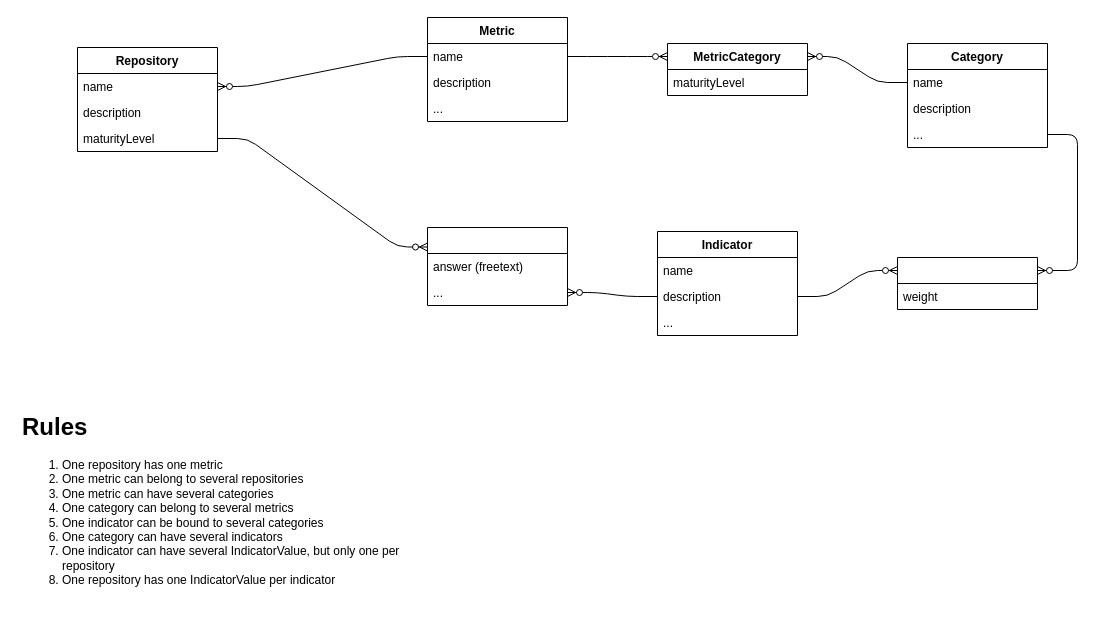
This 1103x625 diagram has some shape labels left out. The box of each missing label's shape, as (x1, y1, x2, y2) in pixels:
IndicatorCategory: (896, 256, 1038, 310)
IndicatorValue: (426, 226, 568, 306)
